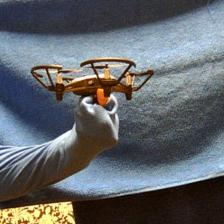drone: (31, 56, 156, 106)
